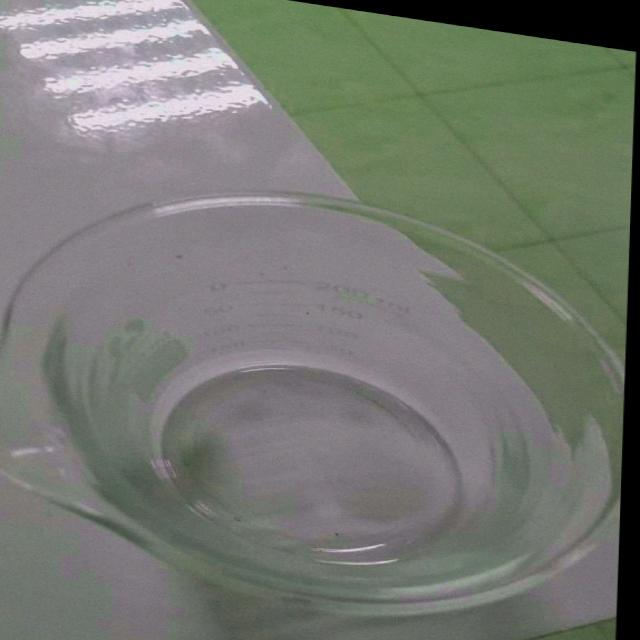Beakers: (0, 152, 621, 640)
